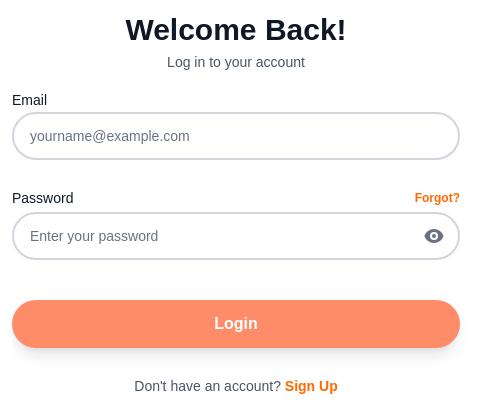
Test: LoginForm › Form validation › shows email error when form is submitted empty
The width and height of the screenshot is (477, 411).
Click the button "Login" at [236, 324], box [12,300,460,348]
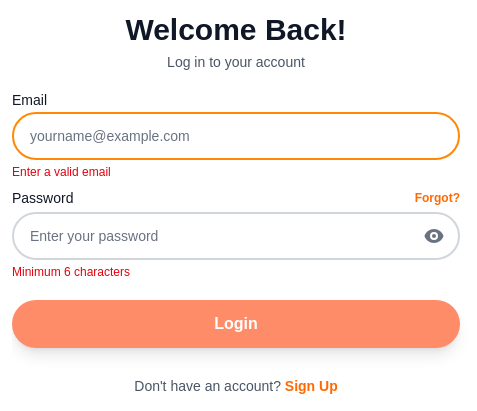
Result: the text "Enter a valid email" is shown at [12,165,111,179]
